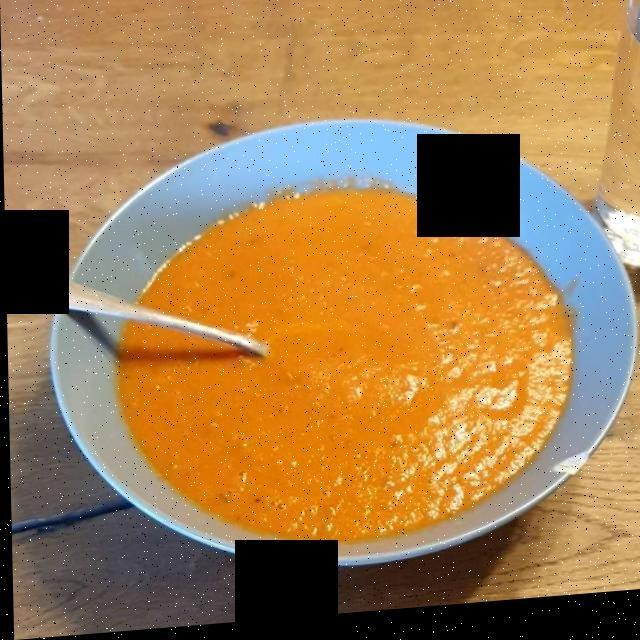soup: (114, 198, 561, 545)
